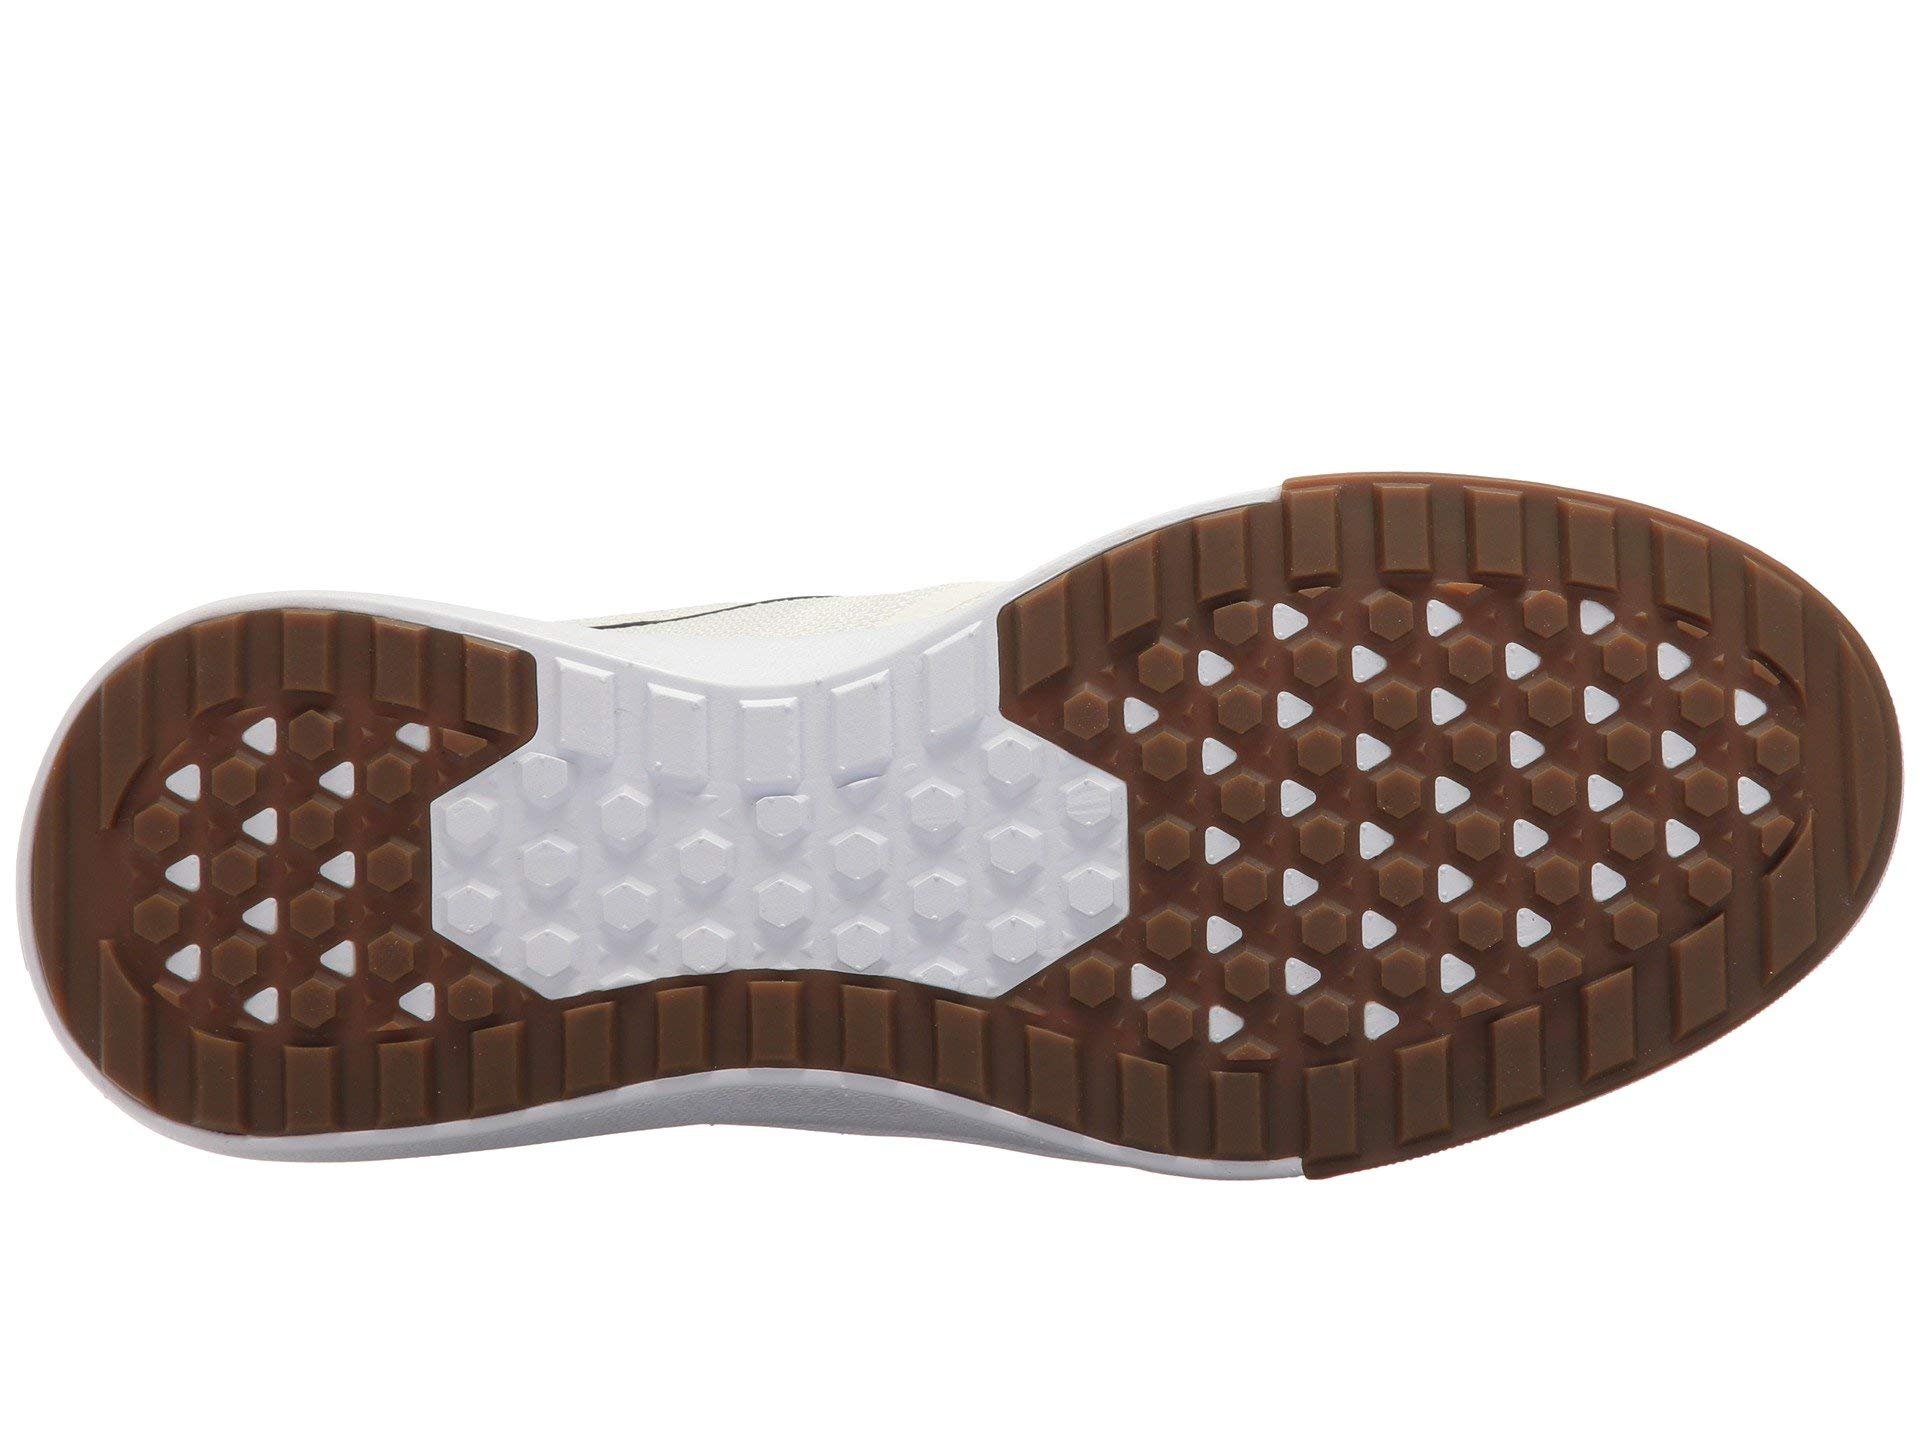polygon: (1209, 605, 1642, 953), (556, 653, 924, 967)
quad: (556, 653, 924, 967), (1222, 501, 1643, 587)
triangle: (1209, 605, 1642, 953)
